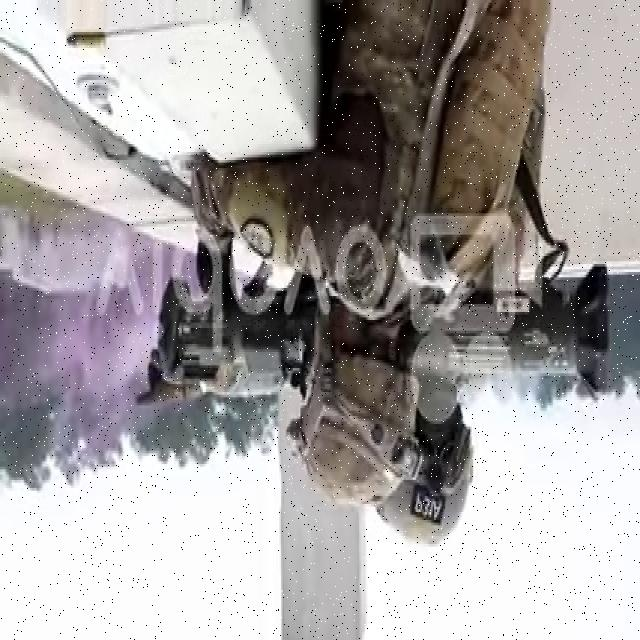bazooka: (157, 245, 616, 411)
